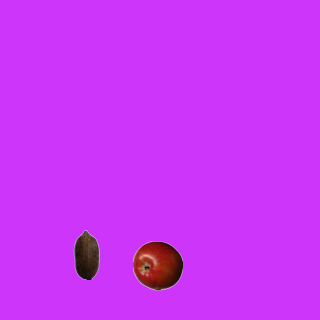Apple Braeburn: (132, 240, 182, 290)
Nut Pecan: (61, 229, 111, 279)
